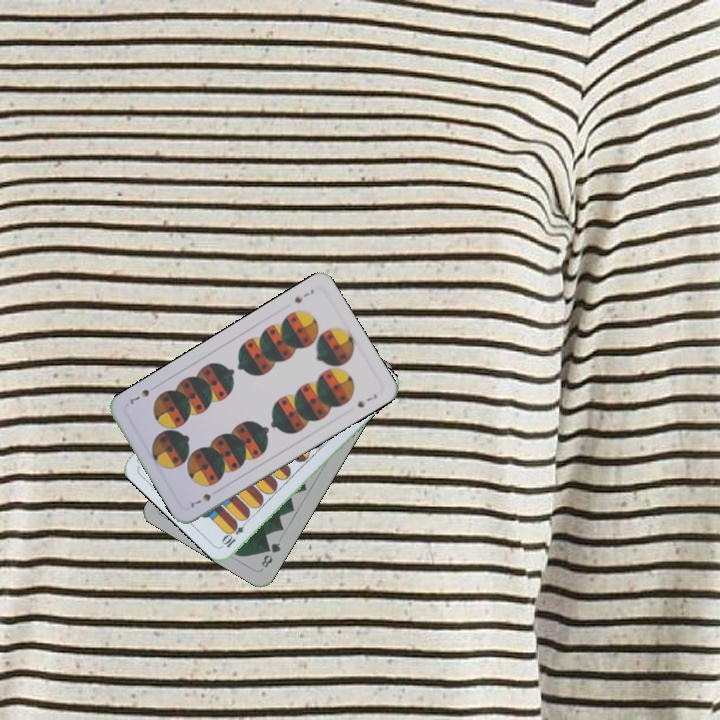E10: (218, 515, 251, 550)
G8: (257, 538, 283, 570)
S7: (186, 489, 214, 511), (290, 285, 317, 306)
